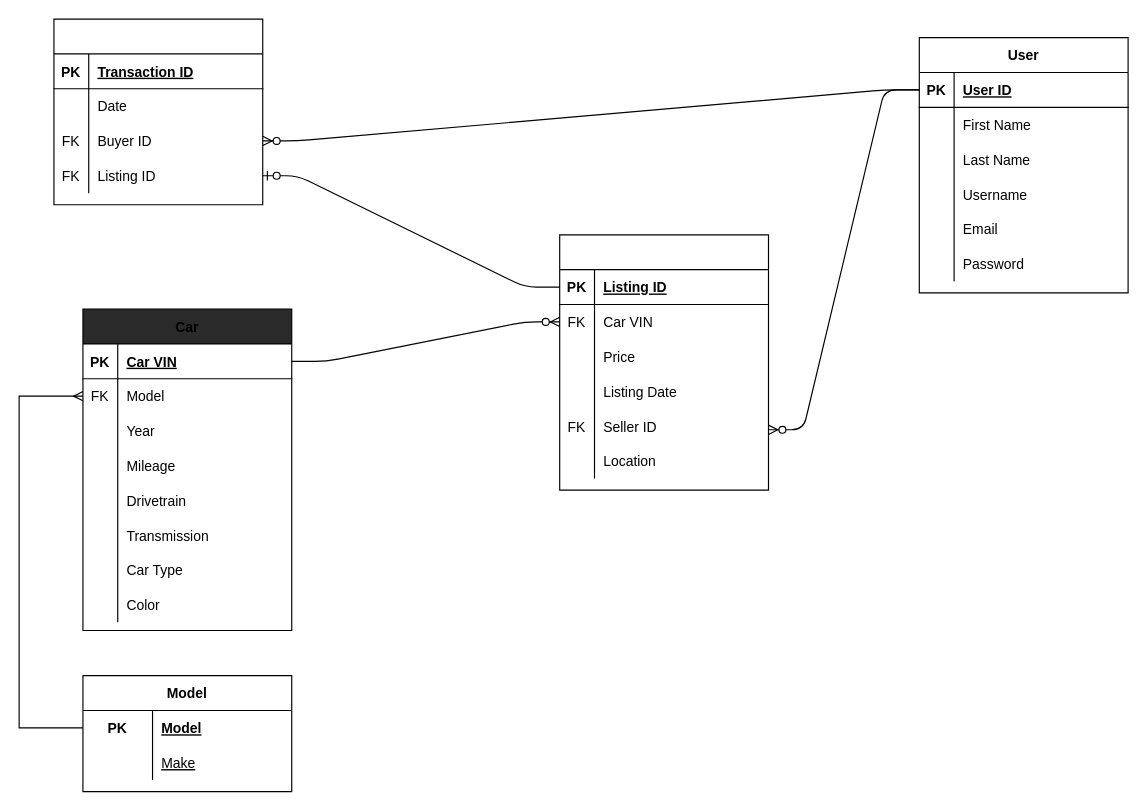
This 1147x811 diagram has some shape labels left out. The shapes that lost their labels are listed below. From the top down, each one's box as (x1, y1, x2, y2) in pixels, then its label:
(53, 18, 263, 205): Transactions
(559, 234, 768, 490): Listings
